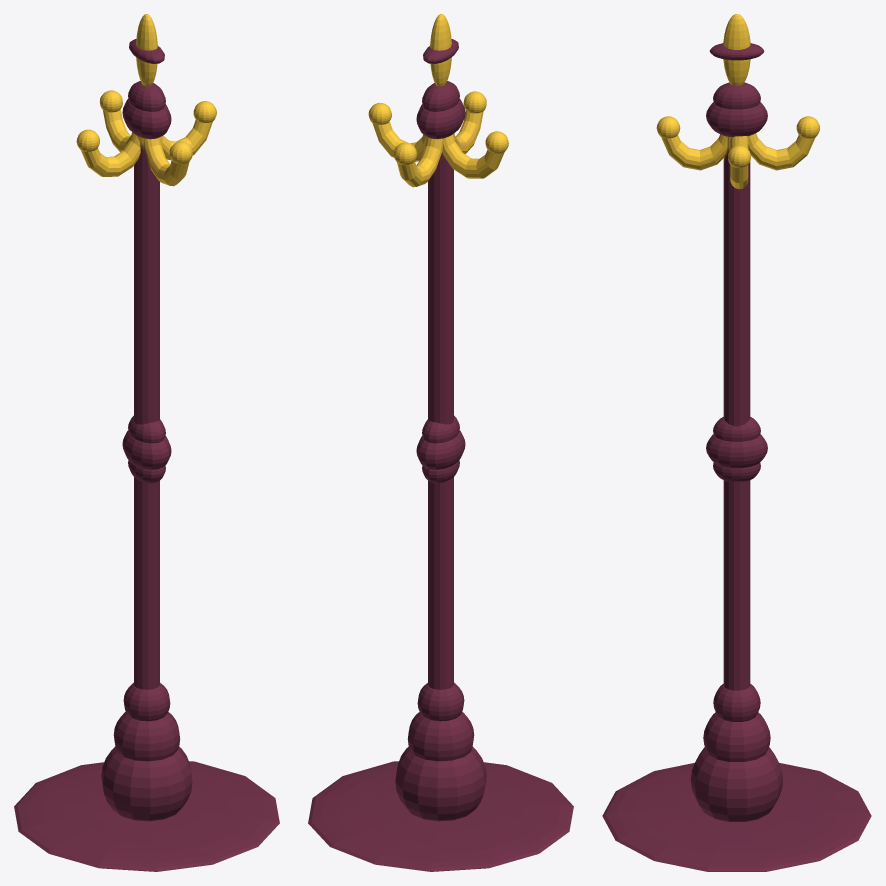
Rendered from ClothingHanger.fbx.
3 renders of one model, left to right at view 1: azimuth 30°, elevation 25°; view 2: azimuth 150°, elevation 25°; view 3: azimuth 270°, elevation 25°, orthographic.
Parts seen in each view (by area): view 1: Sphere.010; view 2: Sphere.010; view 3: Sphere.010.
Boxes of the visible parts, box(x1,y1,x2,y2) form: Sphere.010: box(14, 14, 279, 871); Sphere.010: box(308, 14, 573, 871); Sphere.010: box(602, 14, 871, 871).
Bounding box in the file's own units: 99.57 × 339 × 102.
